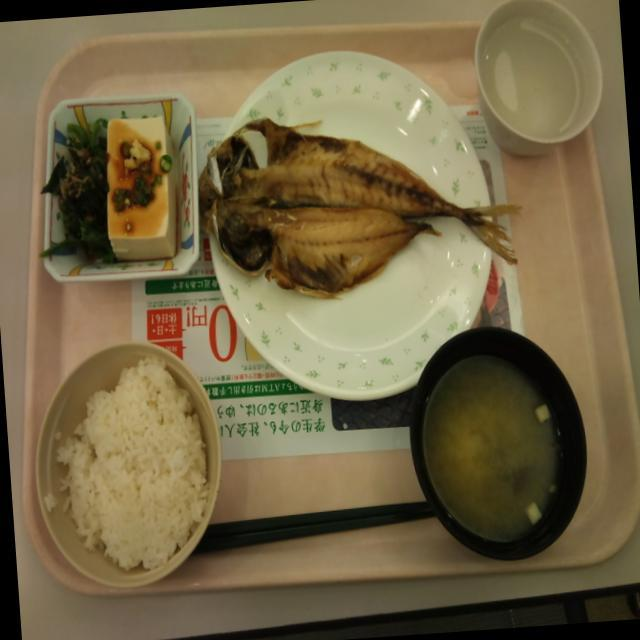Rice: (37, 356, 212, 584)
